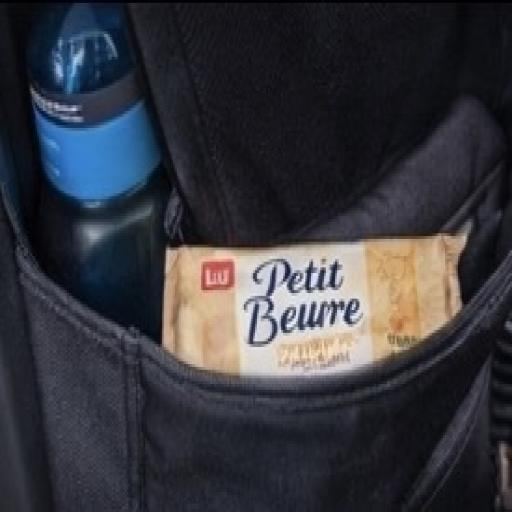petit_beurre: (138, 205, 481, 442)
